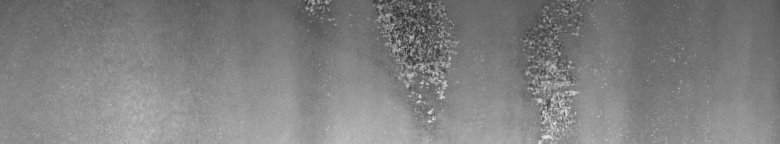hc: (520, 4, 584, 136)
